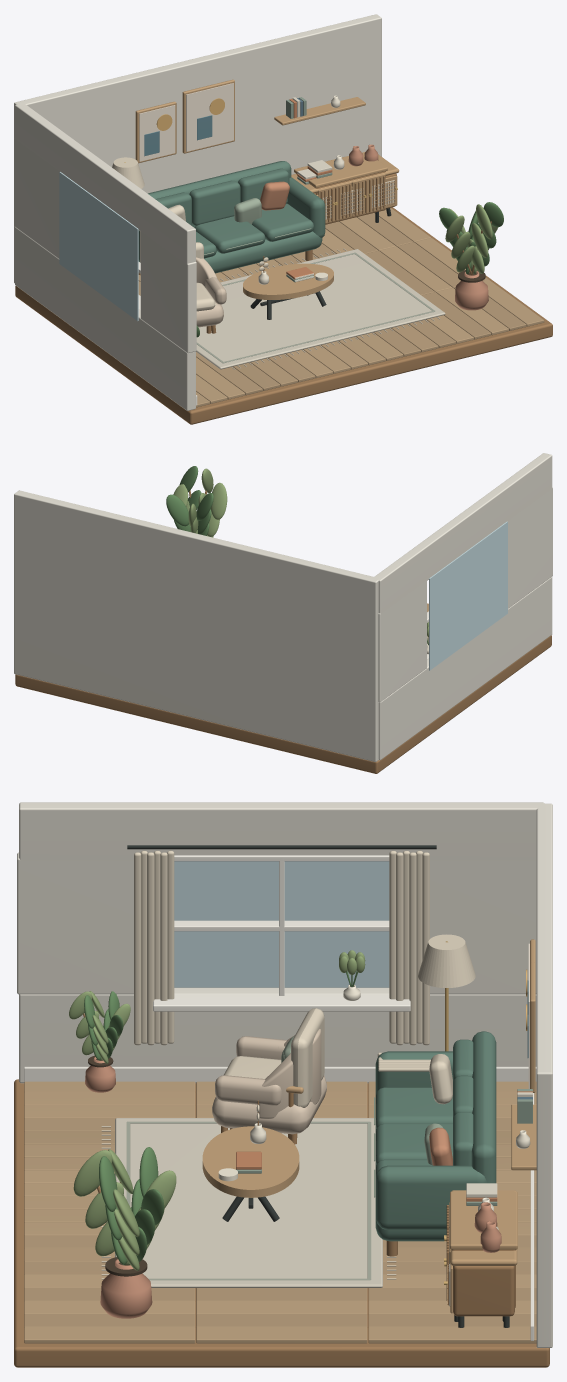
Rendered from room.glb.
3 views of the same model, one above another, from view 1: azimuth 30°, elevation 25°; view 2: azimuth 150°, elevation 25°; view 3: azimuth 270°, elevation 25° (orthographic). The views are drawn at different scales.
Parts seen in each view (by area): view 1: room / Warm chalk plaster, Rounded wool area rug, product-sofa / Forest green woven fabric, room / Warm smoked oak, View through window, room / Artwork warm white, room / Oak board 17, room / Oak board 16, room / Oak board 18, room / Oak board 19, Elliptical coffee table top, product-nightstand / Oak edge grain (+28 smaller); view 2: room / Warm chalk plaster, View through window, room / Warm smoked oak, room / Olive leaves, room / Sunlit leaves; view 3: room / Warm chalk plaster, Rounded wool area rug, View through window, product-sofa / Forest green woven fabric, room / Warm smoked oak, room / Natural linen, room / Ivory painted wood, room / Oak board 19, product-classic-armchair / Sand boucle upholstery, room / Sunlit leaves, room / Oak board 18, room / Oak board 17 (+31 smaller).
Part boxes in pixels (x1=…): room / Warm chalk plaster: x1=14, y1=14, x2=381, y2=410; Rounded wool area rug: x1=196, y1=249, x2=445, y2=369; product-sofa / Forest green woven fabric: x1=138, y1=161, x2=325, y2=273; room / Warm smoked oak: x1=15, y1=207, x2=552, y2=424; View through window: x1=59, y1=172, x2=138, y2=321; room / Artwork warm white: x1=139, y1=83, x2=233, y2=161; room / Oak board 17: x1=339, y1=217, x2=508, y2=335; room / Oak board 16: x1=325, y1=221, x2=491, y2=339; room / Oak board 18: x1=357, y1=213, x2=526, y2=330; room / Oak board 19: x1=374, y1=208, x2=544, y2=326; Elliptical coffee table top: x1=243, y1=263, x2=333, y2=299; product-nightstand / Oak edge grain: x1=294, y1=152, x2=387, y2=223; room / Warm chalk plaster: x1=14, y1=453, x2=552, y2=761; View through window: x1=429, y1=521, x2=507, y2=670; room / Warm smoked oak: x1=15, y1=490, x2=551, y2=773; room / Olive leaves: x1=166, y1=466, x2=428, y2=645; room / Sunlit leaves: x1=173, y1=468, x2=428, y2=637; room / Warm chalk plaster: x1=17, y1=802, x2=552, y2=1347; Rounded wool area rug: x1=115, y1=1118, x2=382, y2=1287; View through window: x1=174, y1=861, x2=389, y2=987; product-sofa / Forest green woven fabric: x1=375, y1=1031, x2=496, y2=1241; room / Warm smoked oak: x1=14, y1=1011, x2=549, y2=1367; room / Natural linen: x1=101, y1=850, x2=429, y2=1279; room / Ivory painted wood: x1=24, y1=855, x2=536, y2=1340; room / Oak board 19: x1=24, y1=1327, x2=536, y2=1343; product-classic-armchair / Sand boucle upholstery: x1=212, y1=1029, x2=326, y2=1134; room / Sunlit leaves: x1=69, y1=950, x2=365, y2=1270; room / Oak board 18: x1=24, y1=1314, x2=536, y2=1327; room / Oak board 17: x1=24, y1=1301, x2=536, y2=1314.
Bounding box in the file's own units: 6.27 × 3.17 × 5.23.
